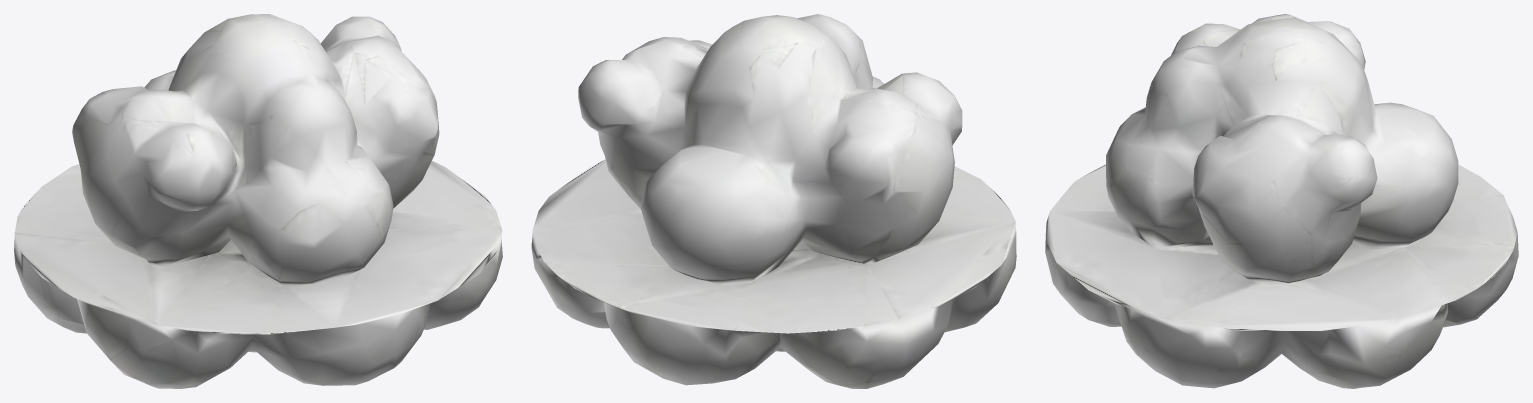
File: cloud_platform.glb
3 renders of one model, left to right at view 1: azimuth 30°, elevation 25°; view 2: azimuth 150°, elevation 25°; view 3: azimuth 270°, elevation 25°, orthographic.
Bounding box in the file's own units: 1.88 × 1.4 × 1.89.
1 material, 1 textured.
